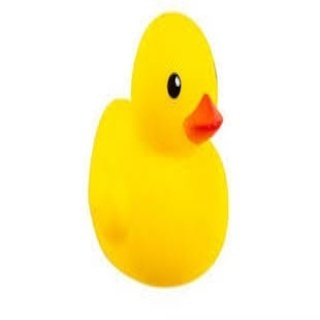duck_regular: (81, 6, 243, 288)
